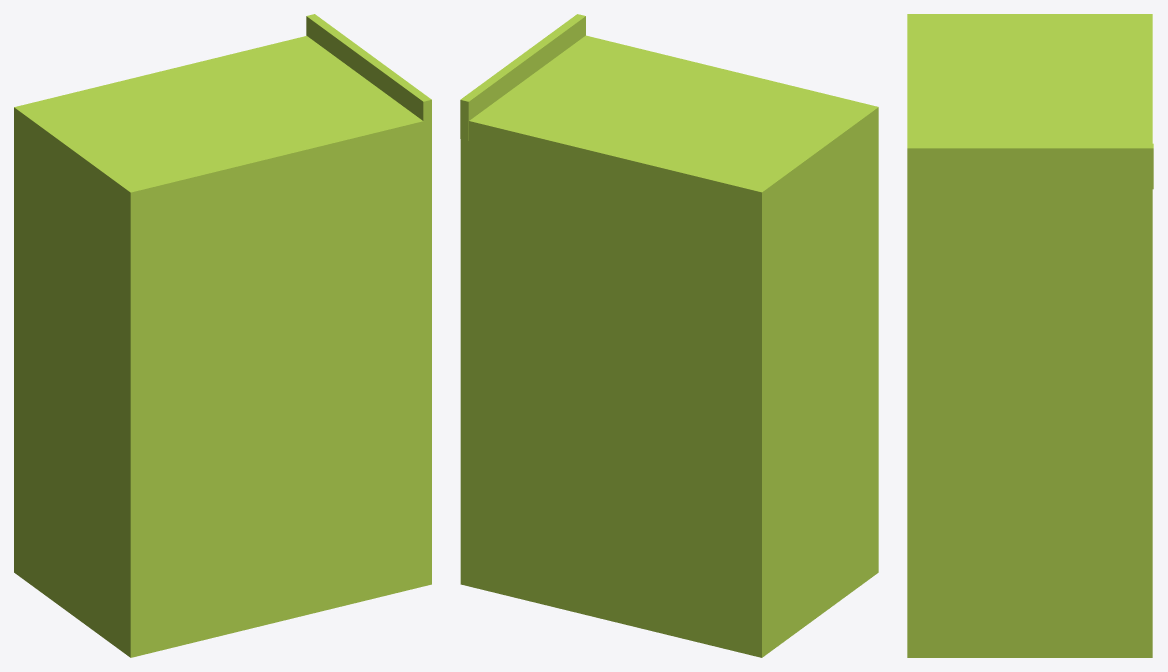
Rendered from table_cook_1_convex.fbx.
3 views of the same model, side by side, from view 1: azimuth 30°, elevation 25°; view 2: azimuth 150°, elevation 25°; view 3: azimuth 270°, elevation 25° (orthographic). The views are drawn at different scales.
Parts seen in each view (by area): view 1: table_cook_1_convex, table_cook_1_convex.001; view 2: table_cook_1_convex, table_cook_1_convex.001; view 3: table_cook_1_convex, table_cook_1_convex.001.
Boxes of the visible parts, x1,y1,x2,y2 form: table_cook_1_convex: (14, 36, 431, 657); table_cook_1_convex.001: (306, 14, 431, 140); table_cook_1_convex: (460, 35, 878, 657); table_cook_1_convex.001: (460, 14, 585, 140); table_cook_1_convex: (907, 14, 1152, 657); table_cook_1_convex.001: (907, 143, 1153, 189).
Size of the model in its own units: 17.11 by 11.52 by 26.31.
